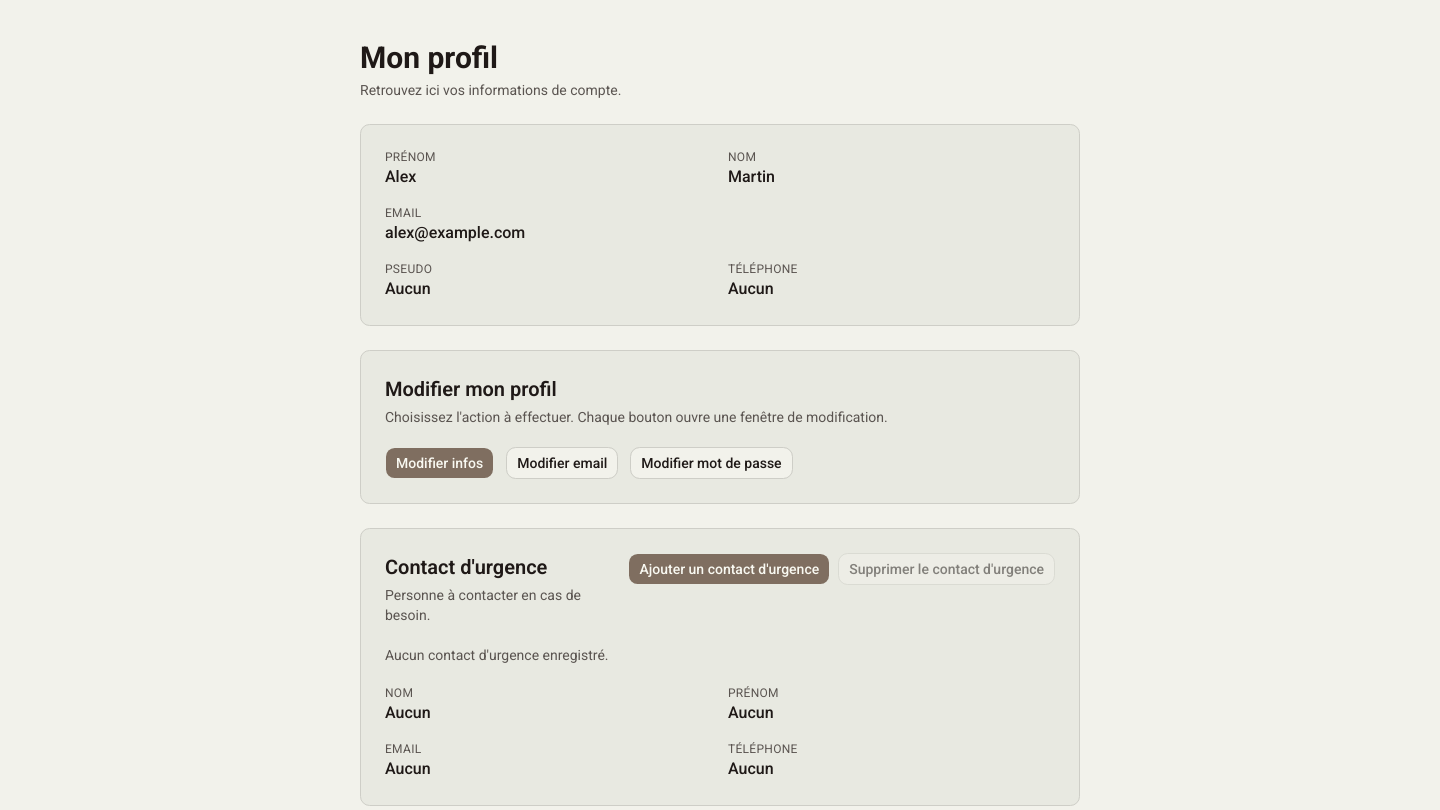
Test case: ProfileContent › opens email modal
Expected: the heading "Mon profil" is shown, [360,40,498,75]
Click the button "Modifier email": (562, 463) [506,447,618,479]
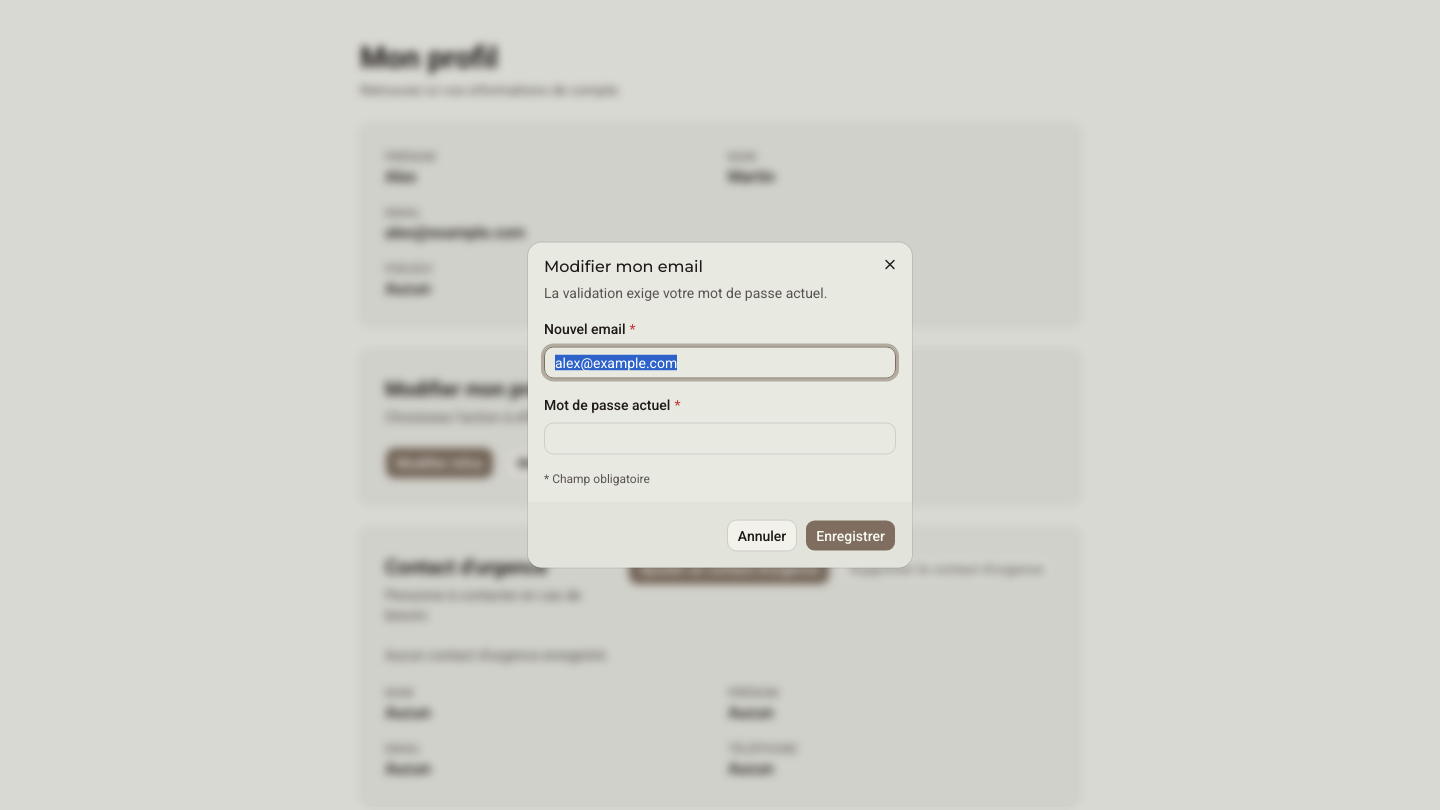
Result: the text "La validation exige votre mot de passe actuel." is shown at [544,284,827,300]
Result: the field labelled "Nouvel email" is shown at [544,346,896,378]
Result: the password field labelled "Mot de passe actuel" is shown at [544,422,896,454]
